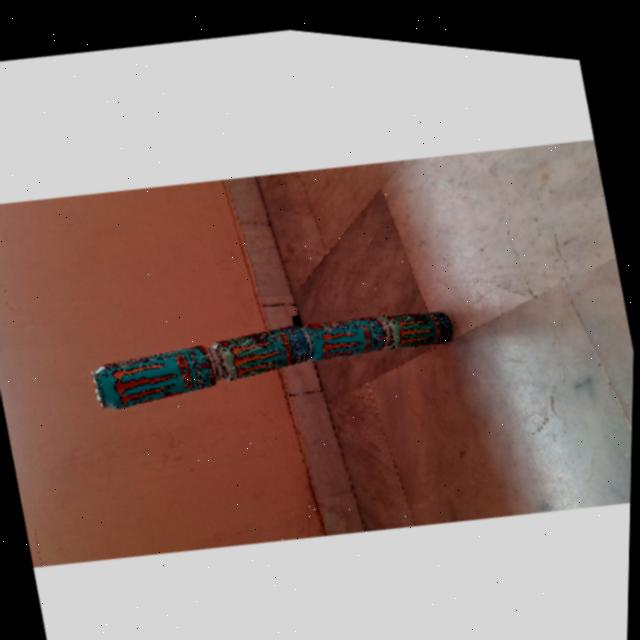Monster Aussie Lemonade: (211, 308, 315, 385), (378, 294, 454, 347)
Monster Mango Loco: (91, 329, 221, 418), (307, 301, 388, 361)
